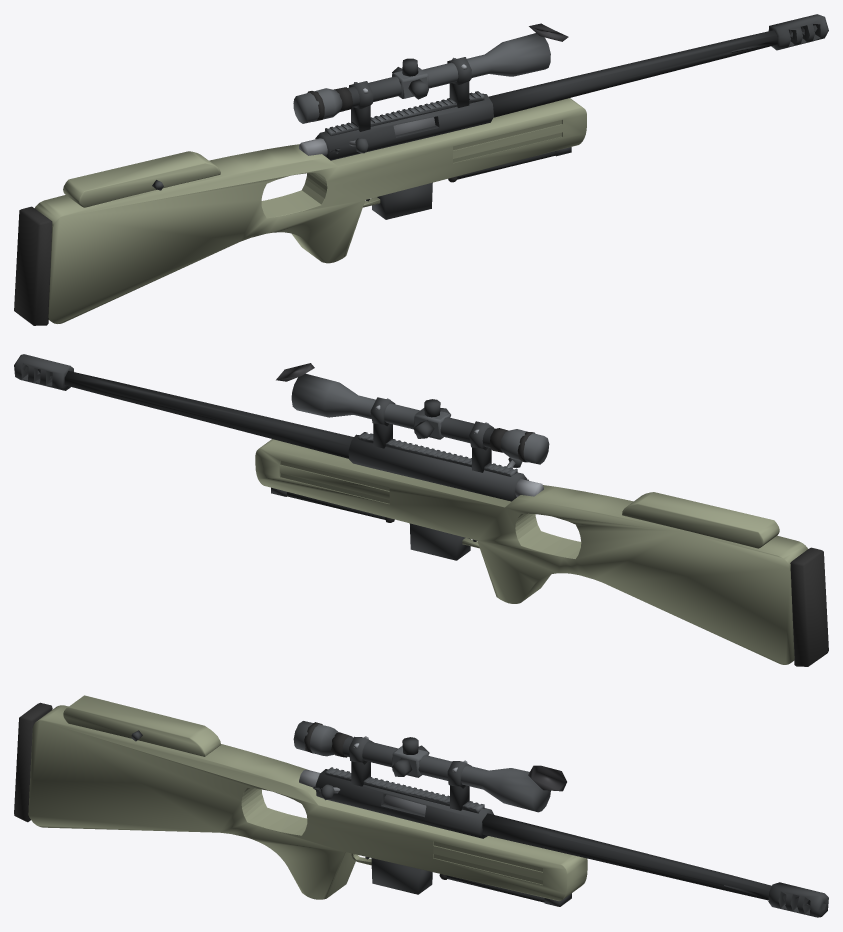
Rendered from awp.glb.
3 views of the same model, one above another, from view 1: azimuth 30°, elevation 25°; view 2: azimuth 150°, elevation 25°; view 3: azimuth 330°, elevation 25° (orthographic).
Visible parts, largest first — view 1: lod_skin_tan, lod_metal_dark, lod_skin_paint, lod_detail_rubber, lod_metal_steel; view 2: lod_skin_tan, lod_metal_dark, lod_skin_paint, lod_detail_rubber; view 3: lod_skin_tan, lod_metal_dark, lod_skin_paint, lod_detail_rubber, lod_metal_steel, lod_detail_polymer.
Boxes of the visible parts, x1,y1,x2,y2 form: lod_skin_tan: (34, 98, 586, 323); lod_metal_dark: (152, 14, 828, 219); lod_skin_paint: (293, 33, 550, 135); lod_detail_rubber: (14, 87, 457, 325); lod_metal_steel: (299, 57, 467, 156); lod_skin_tan: (255, 439, 807, 664); lod_metal_dark: (14, 354, 528, 560); lod_skin_paint: (291, 373, 549, 476); lod_detail_rubber: (385, 428, 828, 666); lod_skin_tan: (28, 695, 587, 900); lod_metal_dark: (131, 730, 828, 917); lod_skin_paint: (293, 721, 550, 813); lod_detail_rubber: (14, 702, 447, 879); lod_metal_steel: (299, 736, 467, 814); lod_detail_polymer: (528, 765, 566, 791).
Size of the model in its own units: 1.46 by 0.3084 by 0.1029.
